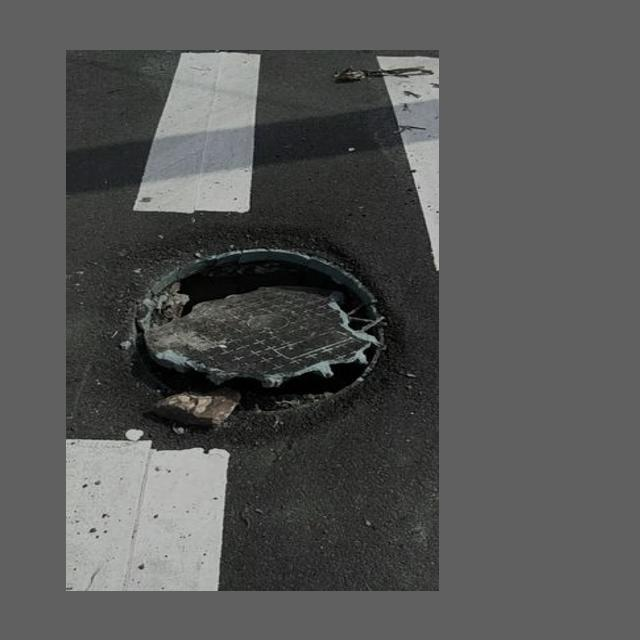broke: (79, 221, 427, 442)
